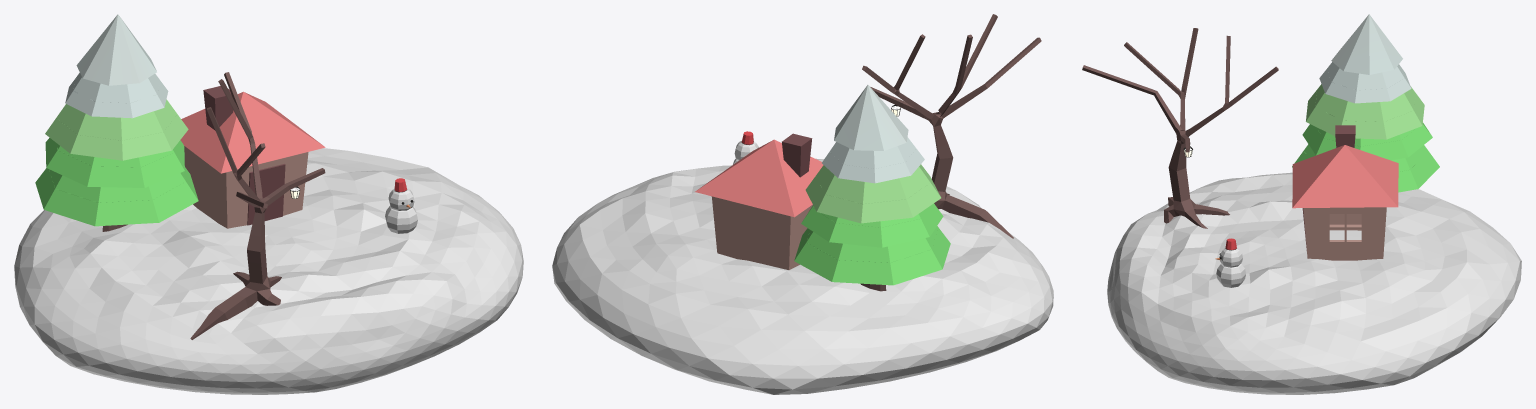
Rendered from snow2.gltf.
3 renders of one model, left to right at view 1: azimuth 30°, elevation 25°; view 2: azimuth 150°, elevation 25°; view 3: azimuth 270°, elevation 25°, orthographic. The views are drawn at different scales.
Visible parts, largest first — view 1: ground, Cylinder.002, Cube.004, Cone.001, Cylinder.004, Cube, Cylinder.003, Cylinder.006, Cylinder.005, Cube.003, Cube.001, Sphere (+1 smaller); view 2: ground, Cylinder.002, Cylinder.004, Cone.001, Cube.004, Cube, Cylinder.003, Cylinder.006, Cylinder.005, Cube.001; view 3: ground, Cone.001, Cube.004, Cylinder.004, Cube, Cylinder.005, Cylinder.006, Cylinder.003, Cylinder.002, Sphere, Cube.001.
Part boxes in pixels (x1,y1,x2,y2): ground: (14,148,523,394); Cylinder.002: (35,167,198,226); Cube.004: (190,72,325,339); Cone.001: (180,91,325,173); Cylinder.004: (45,99,188,160); Cube: (184,146,308,228); Cylinder.003: (45,137,184,187); Cylinder.006: (76,14,156,85); Cylinder.005: (65,72,168,118); Cube.003: (247,164,285,225); Cube.001: (203,86,233,130); Sphere: (385,206,417,233); ground: (552,158,1053,394); Cylinder.002: (794,226,950,285); Cylinder.004: (805,164,941,223); Cone.001: (695,139,823,217); Cube.004: (862,14,1041,238); Cube: (711,196,812,269); Cylinder.003: (801,203,943,247); Cylinder.006: (834,85,908,150); Cylinder.005: (822,137,924,183); Cube.001: (782,133,812,177); ground: (1107,172,1521,394); Cone.001: (1292,145,1398,208); Cube.004: (1082,28,1278,228); Cylinder.004: (1306,84,1424,139); Cube: (1303,207,1386,260); Cylinder.005: (1319,62,1411,103); Cylinder.006: (1331,14,1402,74); Cylinder.003: (1302,123,1432,160); Cylinder.002: (1292,144,1439,192); Sphere: (1216,263,1245,287); Cube.001: (1335,125,1355,147).
Size of the model in its own units: 31.25 by 20.91 by 29.38.
